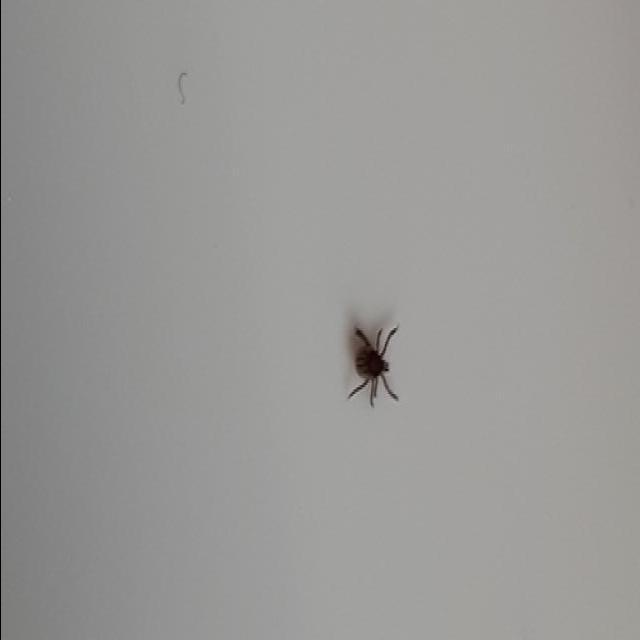Ixodes Ricinus-F-Fed: (346, 319, 401, 410)
